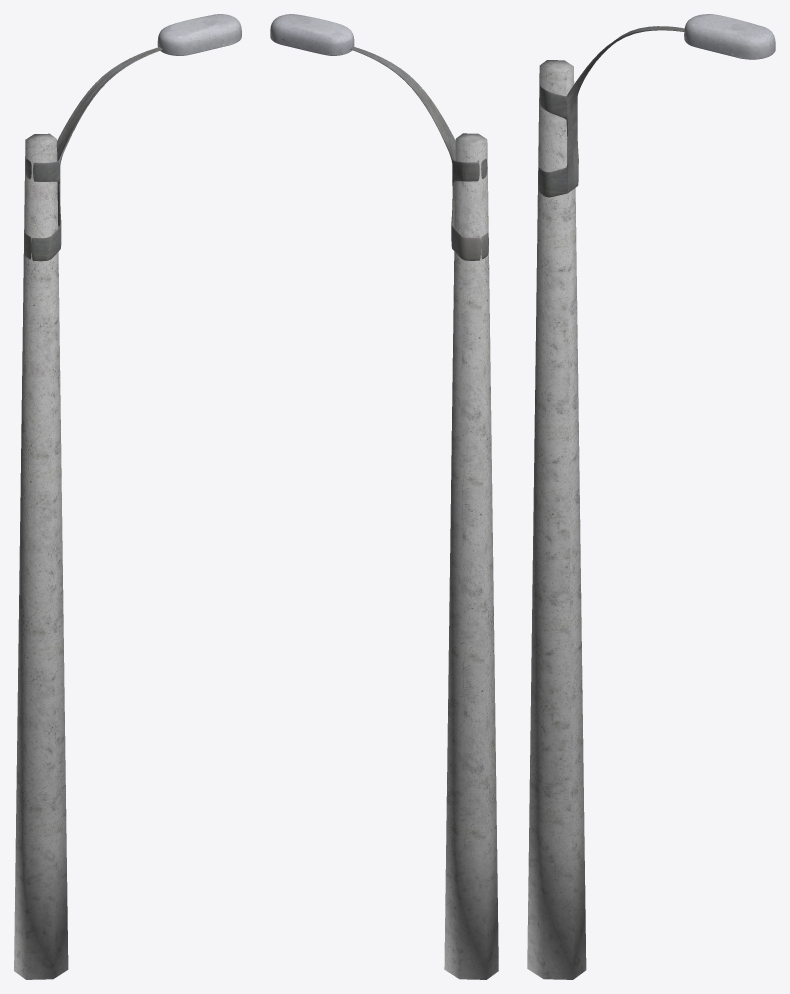
The model's file is pillar.fbx.
3 renders of one model, left to right at view 1: azimuth 30°, elevation 25°; view 2: azimuth 150°, elevation 25°; view 3: azimuth 330°, elevation 25°, orthographic. The views are drawn at different scales.
Parts seen in each view (by area): view 1: Circle, Circle.001, Circle.002; view 2: Circle, Circle.001, Circle.002; view 3: Circle, Circle.001, Circle.002.
Boxes of the visible parts, bbox=[...] form: Circle: bbox=[14, 133, 68, 979]; Circle.001: bbox=[24, 47, 162, 261]; Circle.002: bbox=[157, 14, 241, 55]; Circle: bbox=[444, 133, 498, 979]; Circle.001: bbox=[350, 46, 488, 260]; Circle.002: bbox=[270, 14, 354, 55]; Circle: bbox=[527, 60, 586, 979]; Circle.001: bbox=[538, 26, 684, 197]; Circle.002: bbox=[684, 14, 775, 59].
Bounding box in the file's own units: 138 × 546 × 26.56.
